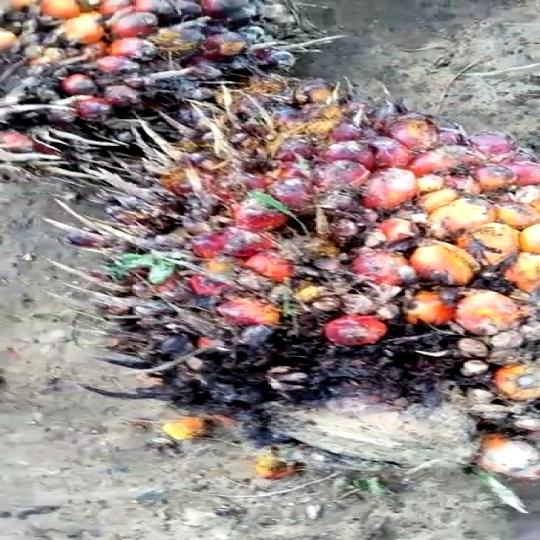masak: (41, 83, 540, 508)
